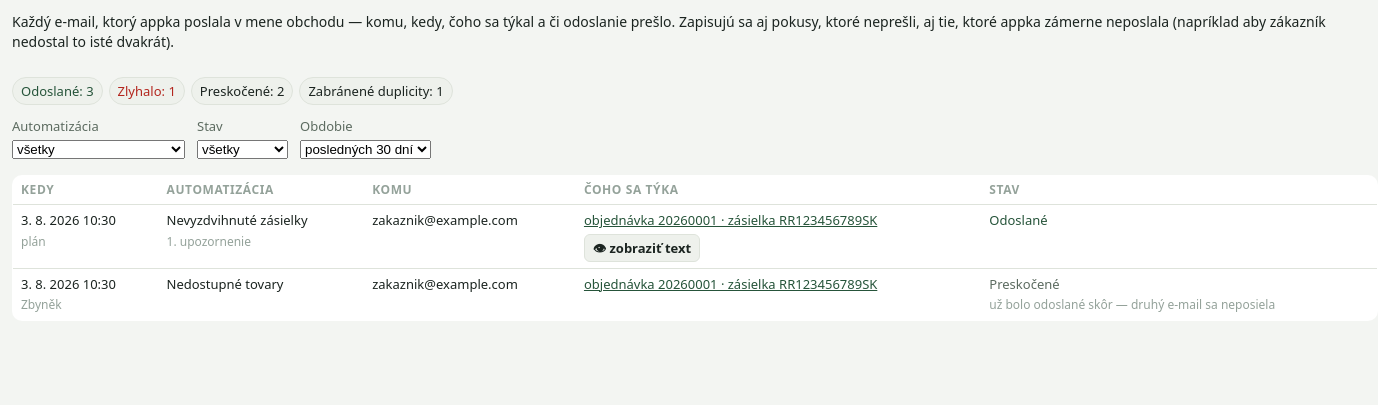
Scenario: riadok s uloženým textom má tlačidlo na jeho zobrazenie; riadok bez textu (preskočené) ho nemá
expect the element with test id "mail-log-row-r1" does not show "vaša zásielka čaká na pošte": met
Click the button with test id "mail-log-body-toggle-r1": (642, 248) [584,234,700,262]
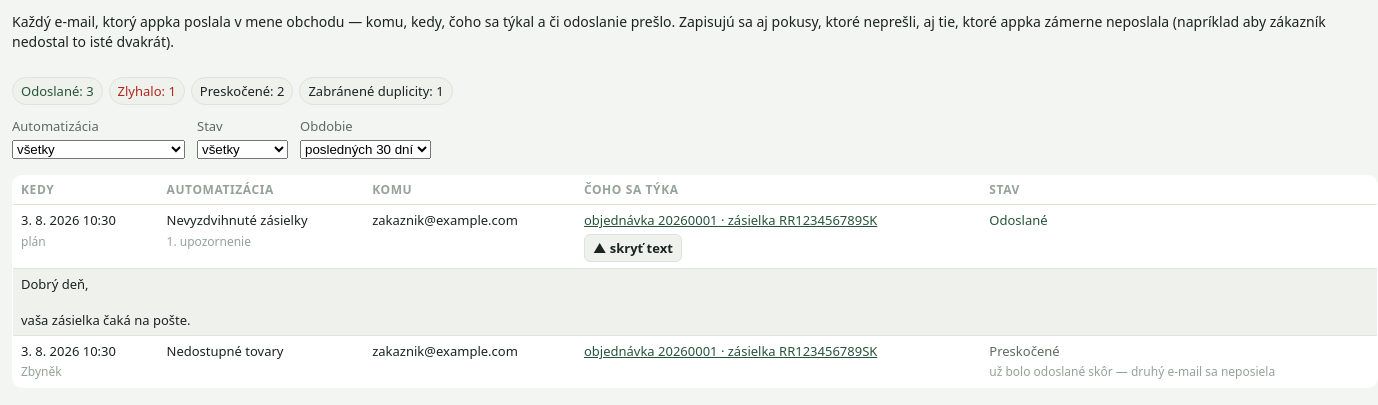
expect the text "Dobrý deň, vaša zásielka čaká na pošte." is shown: met, box [21,275,190,329]
